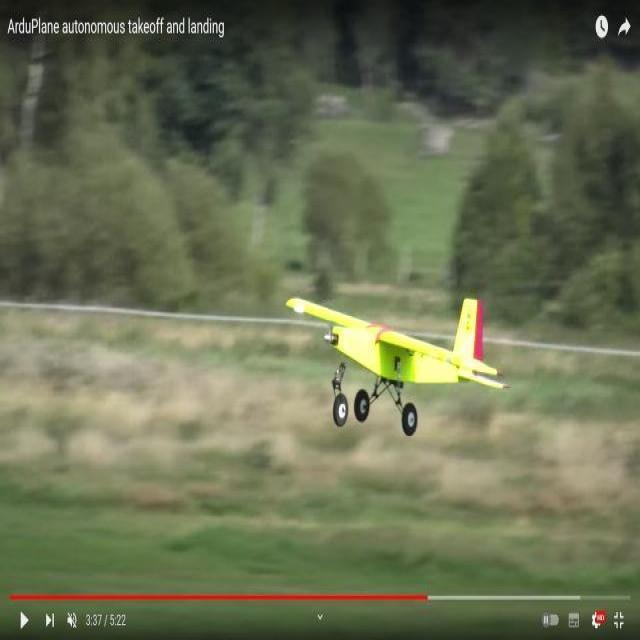iha: (288, 292, 514, 436)
